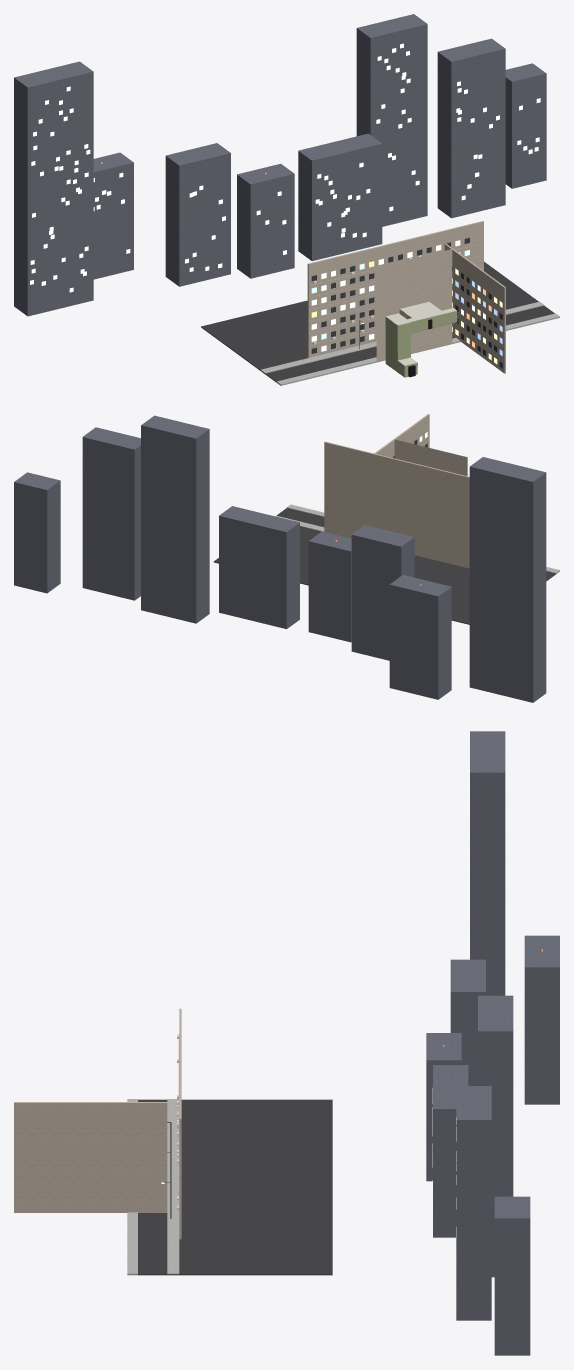
File: kitnet.glb
3 views of the same model, one above another, from view 1: azimuth 30°, elevation 25°; view 2: azimuth 150°, elevation 25°; view 3: azimuth 270°, elevation 25° (orthographic). The views are drawn at different scales.
Parts seen in each view (by area): view 1: Outside_Skyline, Outside_FacadeAcross, Outside_Street, Outside_OwnFacade, Outside_FacadeSide, Stairs_Walls, Ceiling, Walls_Hall; view 2: Outside_Skyline, Outside_FacadeAcross, Outside_Street, Outside_OwnFacade, Outside_FacadeSide; view 3: Outside_Skyline, Outside_Street, Outside_FacadeSide, Outside_FacadeAcross.
Boxes of the visible parts, bbox=[...] form: Outside_Skyline: bbox=[14, 14, 546, 316]; Outside_FacadeAcross: bbox=[307, 221, 483, 357]; Outside_Street: bbox=[201, 261, 559, 385]; Outside_OwnFacade: bbox=[376, 249, 452, 361]; Outside_FacadeSide: bbox=[444, 243, 505, 373]; Stairs_Walls: bbox=[385, 313, 410, 371]; Ceiling: bbox=[399, 302, 456, 321]; Walls_Hall: bbox=[411, 311, 457, 332]; Outside_Skyline: bbox=[14, 415, 546, 702]; Outside_FacadeAcross: bbox=[324, 441, 469, 568]; Outside_Street: bbox=[213, 504, 559, 624]; Outside_OwnFacade: bbox=[394, 439, 467, 476]; Outside_FacadeSide: bbox=[374, 414, 429, 458]; Outside_Skyline: bbox=[426, 731, 559, 1355]; Outside_Street: bbox=[127, 1099, 332, 1275]; Outside_FacadeSide: bbox=[14, 1102, 167, 1212]; Outside_FacadeAcross: bbox=[177, 1008, 181, 1239].
Size of what is drawn, in the model's own units: 133 by 55.08 by 92.51.
Materials: 103 (37 with a texture image).
